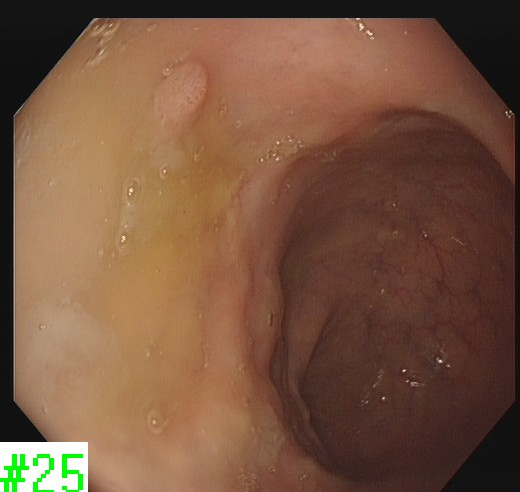adenoma: (154, 58, 209, 136)
